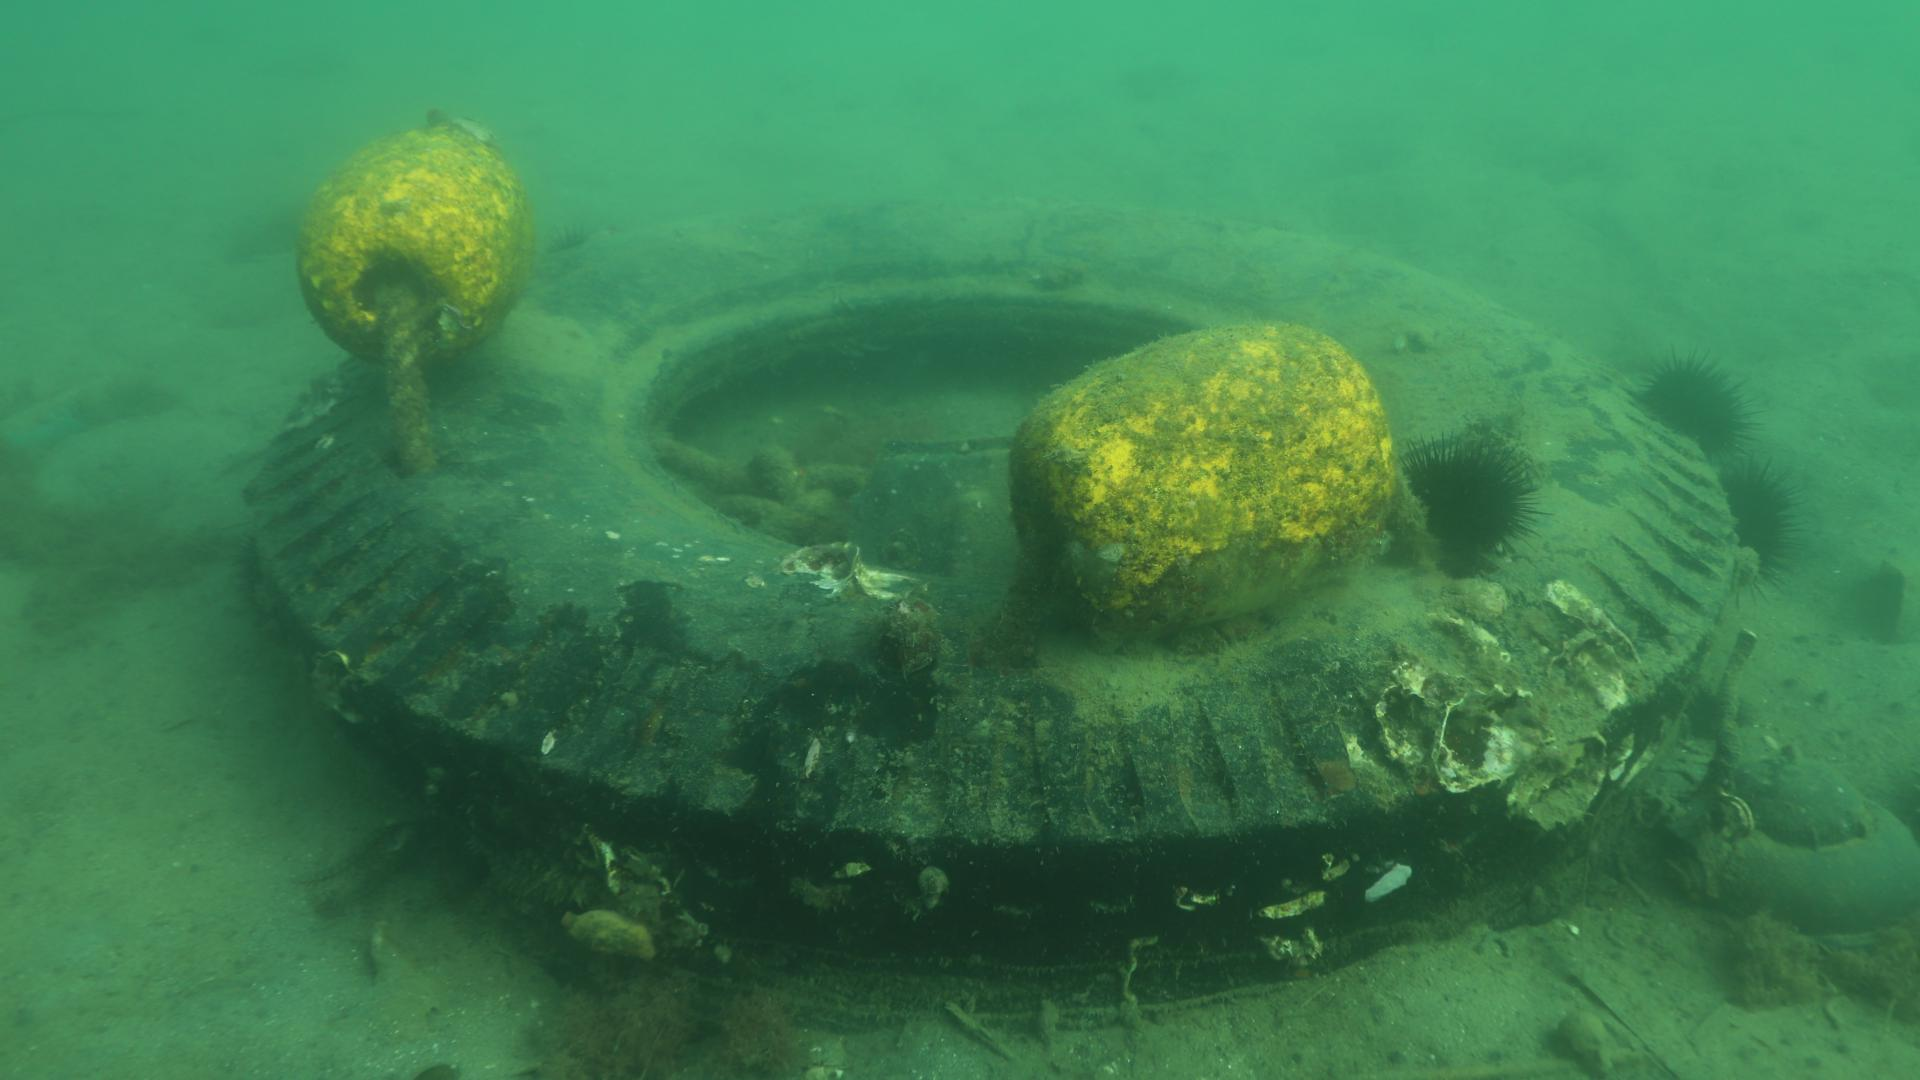bundle of ropes: (655, 435, 868, 529)
tire: (255, 196, 1735, 1010)
